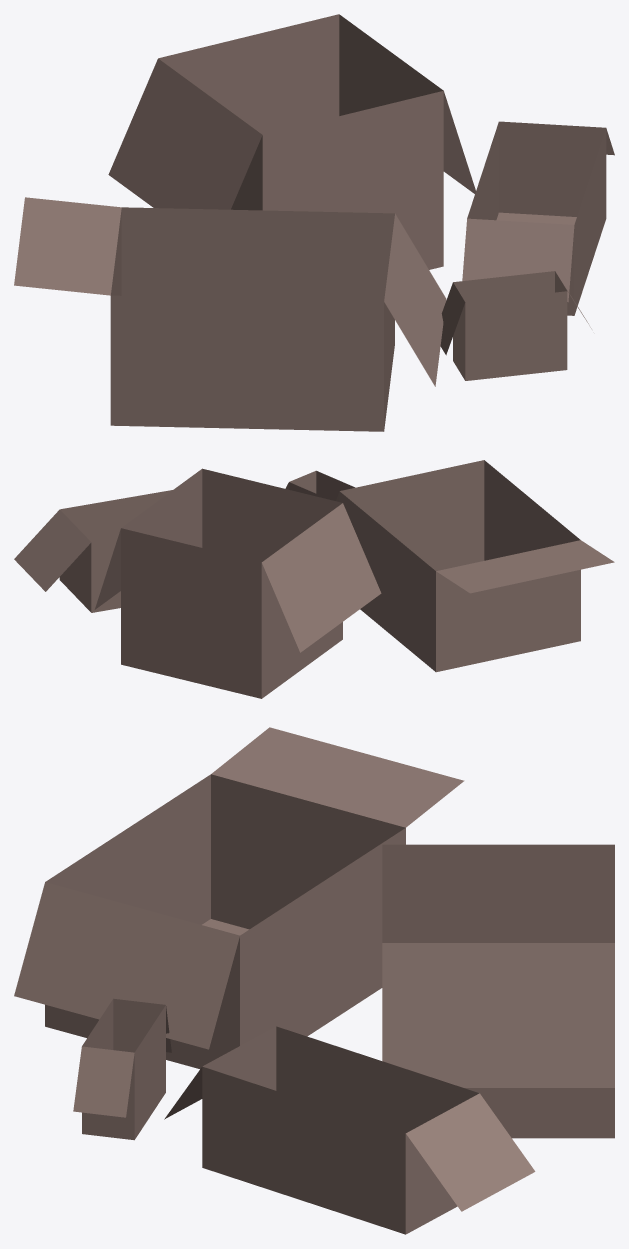
File: pudła2.fbx
3 renders of one model, top to bottom at view 1: azimuth 30°, elevation 25°; view 2: azimuth 150°, elevation 25°; view 3: azimuth 270°, elevation 25°, orthographic. The views are drawn at different scales.
Parts seen in each view (by area): view 1: Cube.006, Cube.005, Cube.007, Cube.008; view 2: Cube.005, Cube.006, Cube.007, Cube.008; view 3: Cube.006, Cube.005, Cube.007, Cube.008.
Part boxes in pixels (x1,y1,x2,y2): Cube.006: [14, 197, 446, 431]; Cube.005: [108, 14, 475, 269]; Cube.007: [462, 121, 614, 315]; Cube.008: [440, 271, 591, 380]; Cube.005: [94, 468, 381, 698]; Cube.006: [336, 460, 614, 672]; Cube.007: [14, 490, 172, 612]; Cube.008: [285, 470, 354, 500]; Cube.006: [14, 727, 464, 1068]; Cube.005: [382, 844, 614, 1138]; Cube.007: [164, 1026, 535, 1234]; Cube.008: [73, 998, 171, 1140].
Bounding box in the file's own units: 1616 × 401 × 1101.
